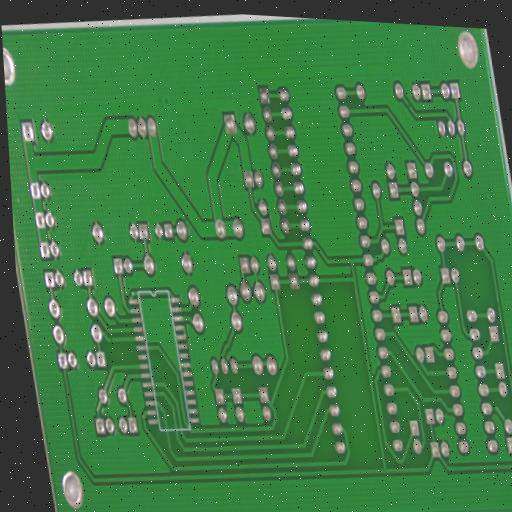open_circuit: (107, 333, 115, 347), (404, 99, 412, 111), (491, 403, 496, 413)
